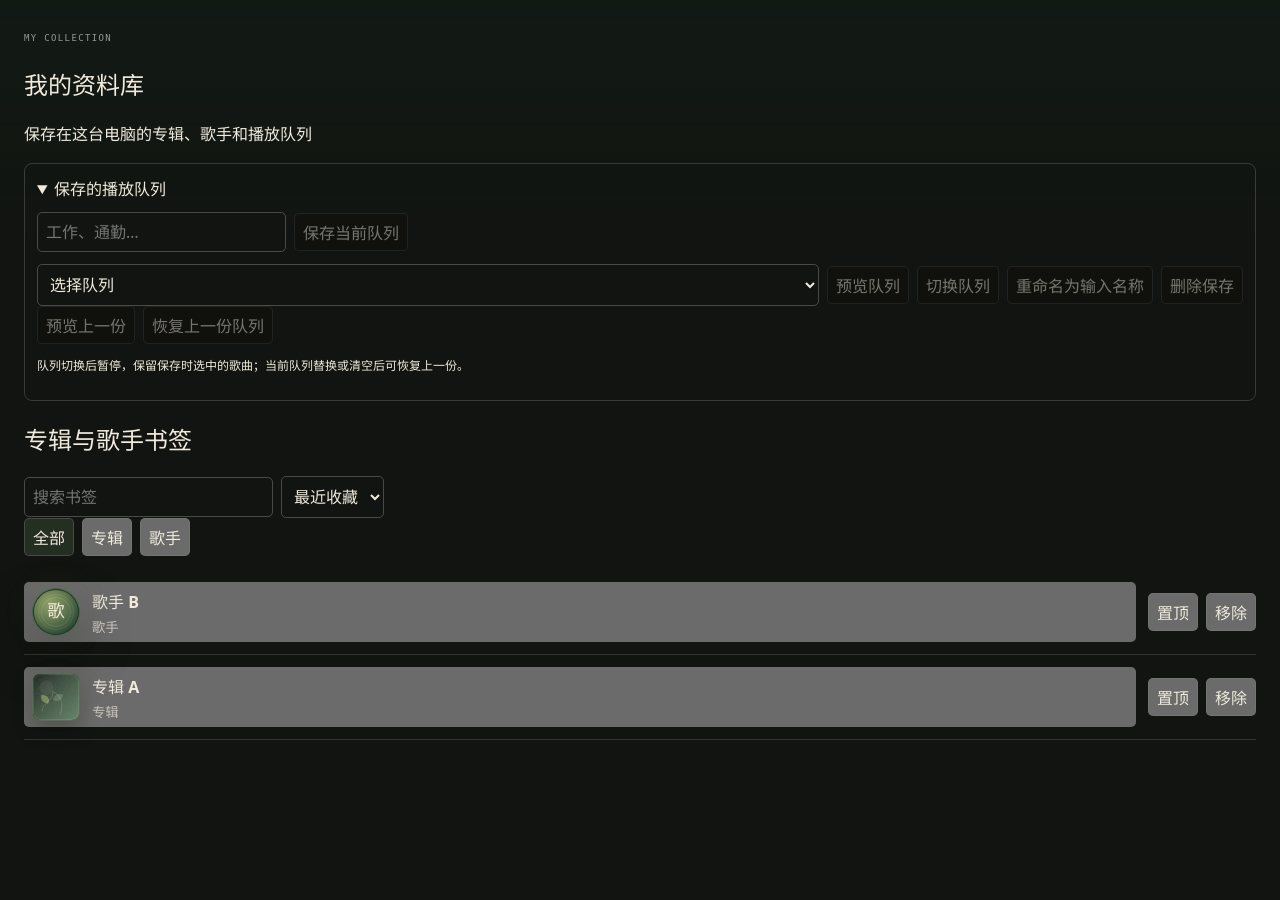
Test: 资料库分类、排序与置顶会保留书签封面元数据
Expected: the list item "歌 歌手 B 歌手 置顶 移除" is shown, [24,570,1256,655]
Click the button with aria-label "置顶 专辑 A": click(1173, 697) [1148,678,1198,716]
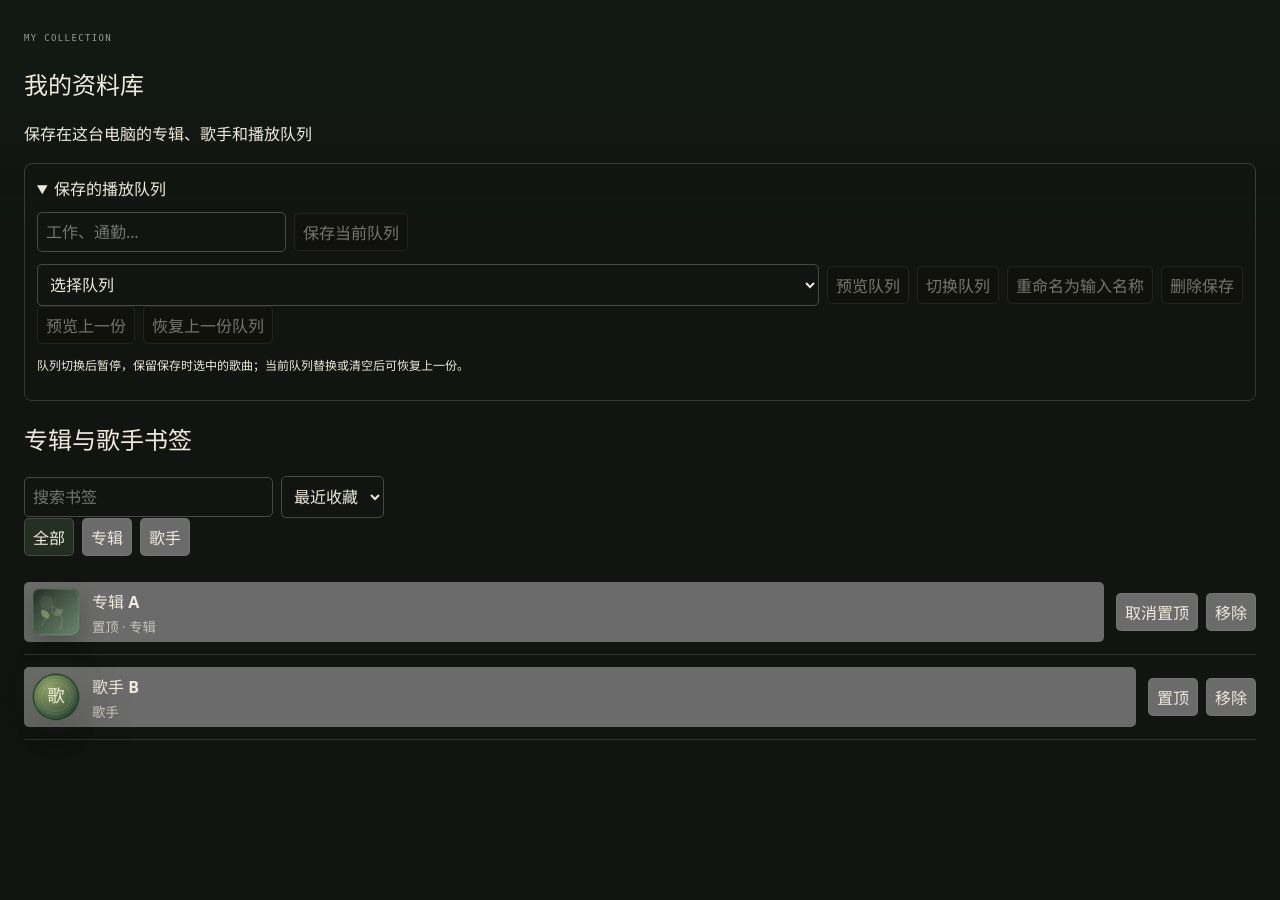
Expected: the list item "专辑 A 置顶 · 专辑 取消置顶 移除" is shown, [24,570,1256,655]
Click the button "歌手": click(165, 537) [140,518,190,556]
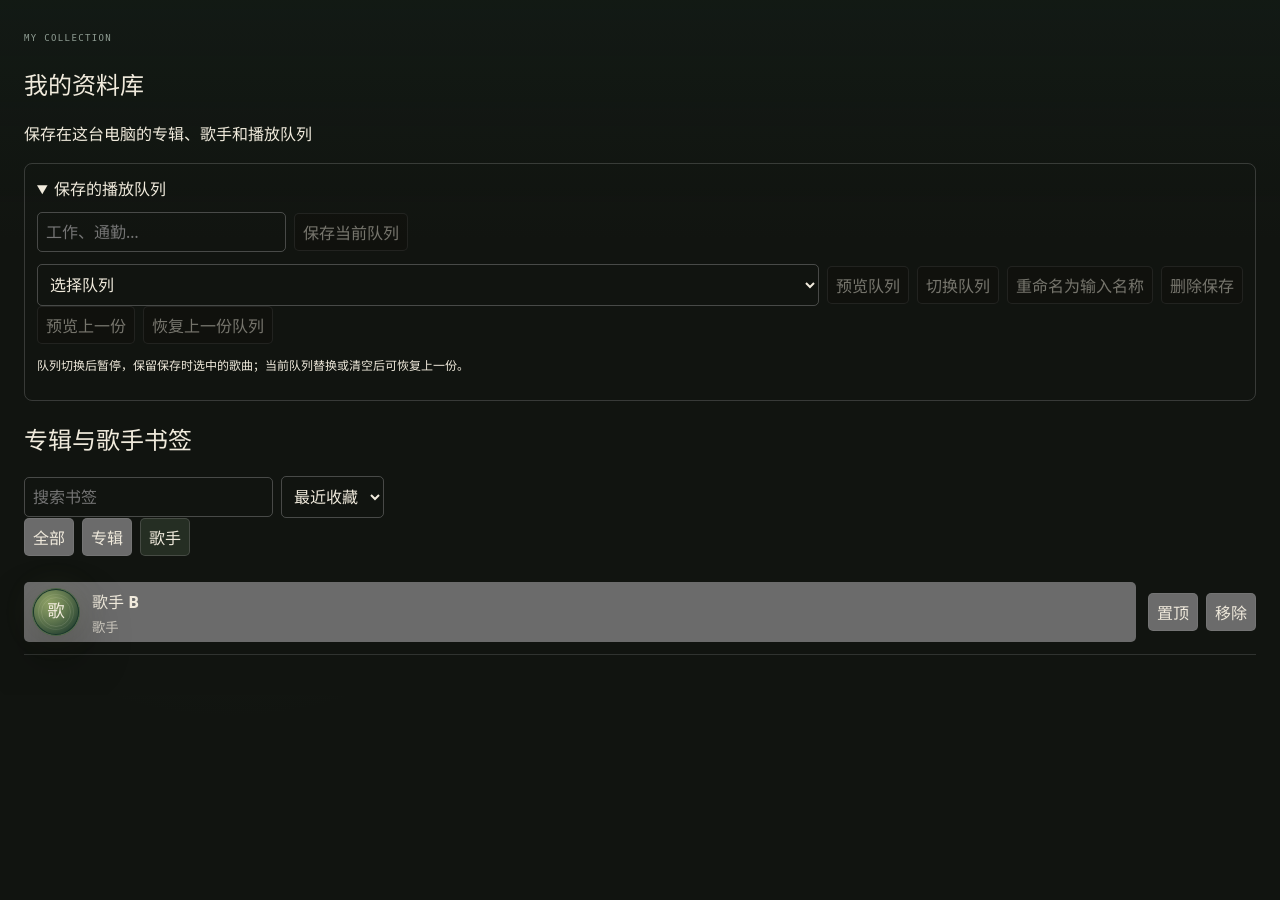
Expected: the number of list items is 1, [24,570,1256,655]
Expected: the button "专辑 A" is gone
In the search field named "搜索资料库": (148, 497) [24,477,273,517], type "不存在"
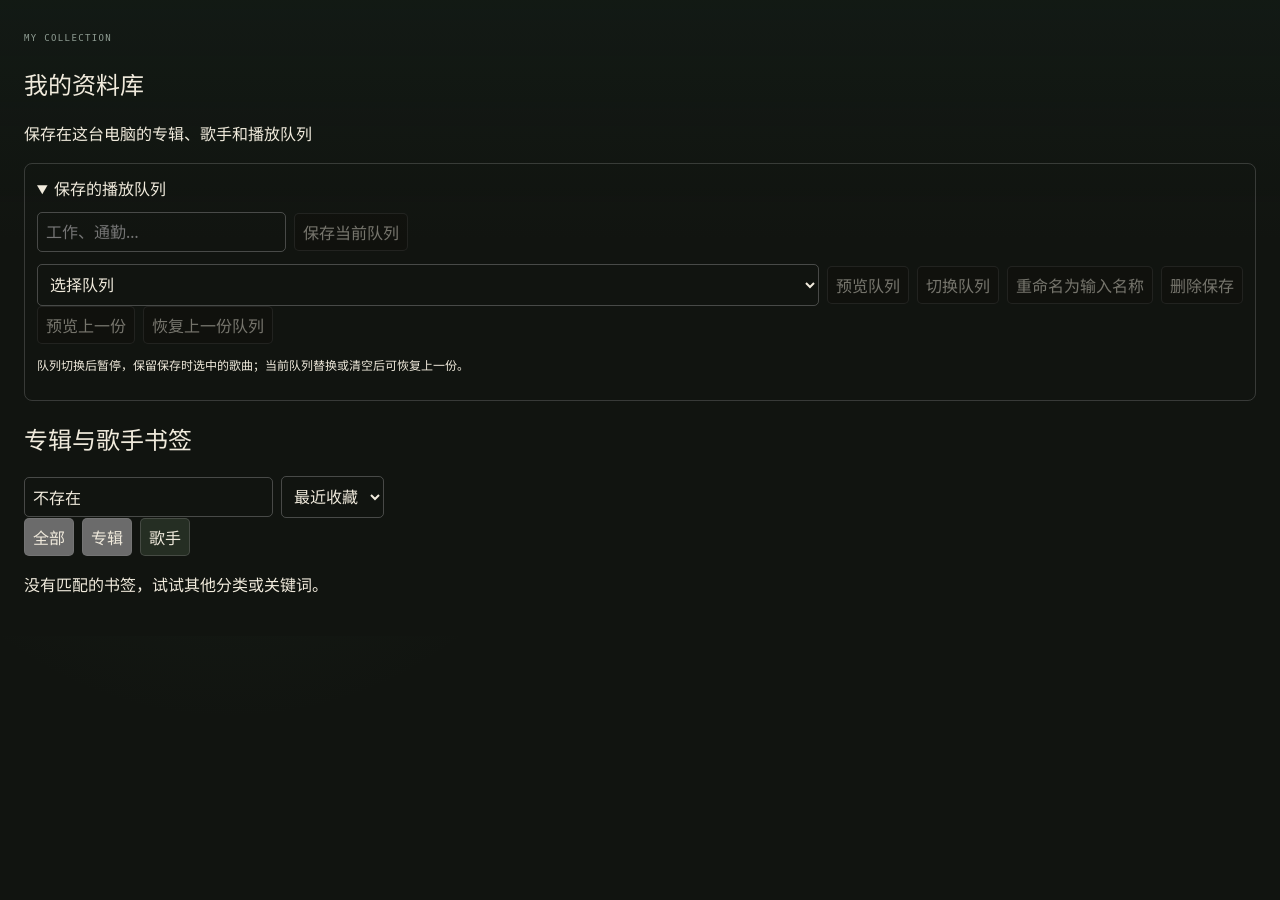
Expected: the text "没有匹配的书签，试试其他分类或关键词。" is shown, [24,574,328,596]
